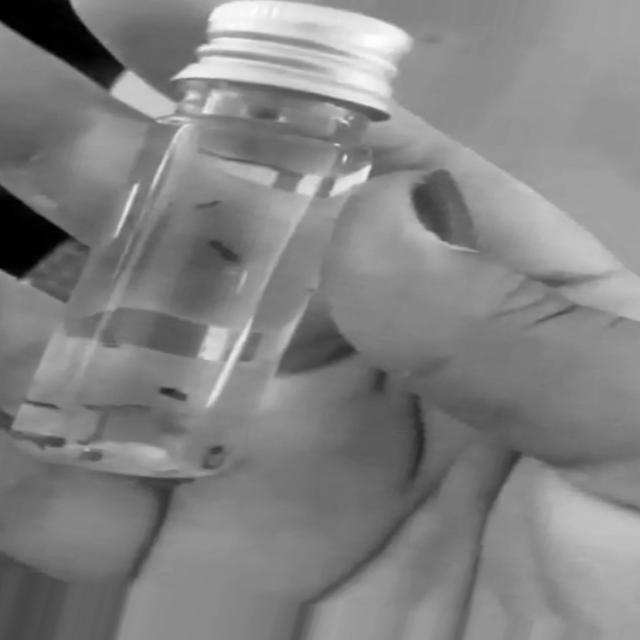larvas: (9, 424, 67, 446), (78, 412, 108, 447), (199, 439, 224, 477), (214, 241, 242, 268), (192, 193, 220, 216), (164, 385, 193, 404), (87, 402, 145, 411), (30, 399, 61, 410)
